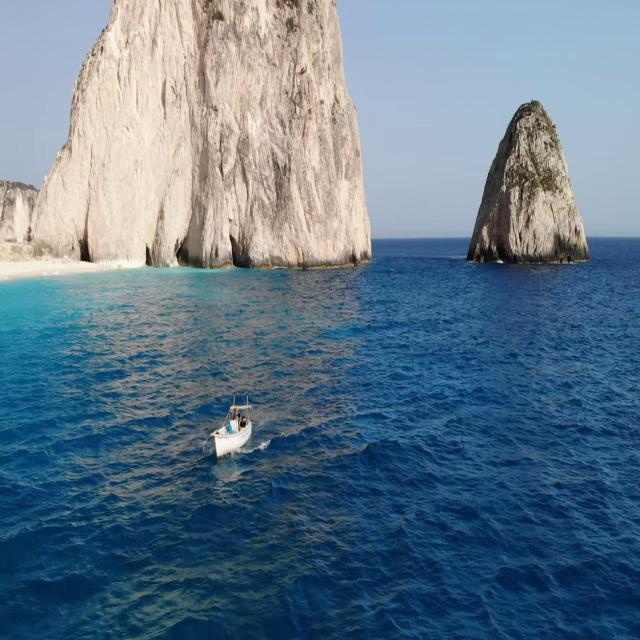boat: (196, 397, 266, 466)
